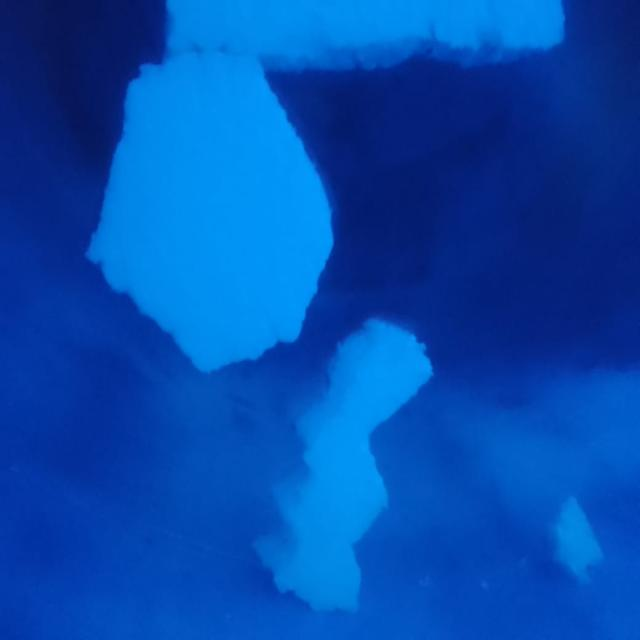litter: (74, 54, 338, 383), (296, 313, 395, 622), (161, 7, 562, 61), (545, 512, 600, 585)
